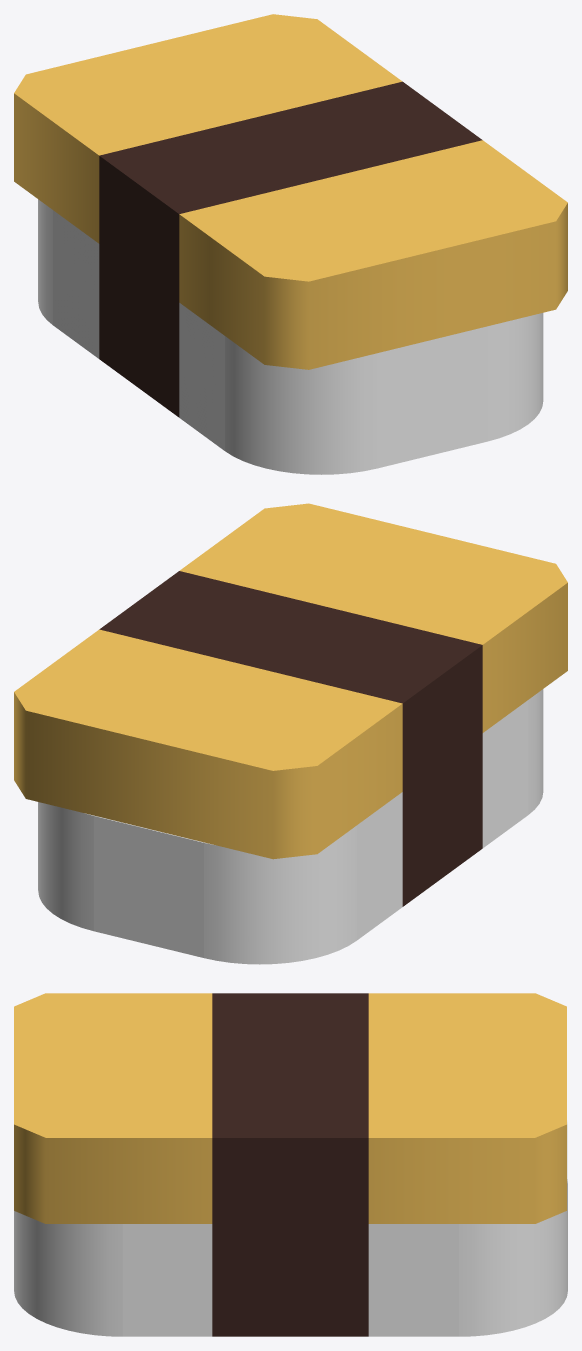
The model's file is sushiEgg.fbx.
The picture shows the model from 3 angles, top to bottom: view 1: azimuth 30°, elevation 25°; view 2: azimuth 150°, elevation 25°; view 3: azimuth 270°, elevation 25°; orthographic projection. The views are drawn at different scales.
Visible parts, largest first — view 1: egg, sushiEgg; view 2: egg, sushiEgg; view 3: egg, sushiEgg.
Part boxes in pixels (box(x1,y1,x2,y2)): egg: box(14, 14, 567, 369); sushiEgg: box(38, 199, 543, 474); egg: box(14, 503, 567, 859); sushiEgg: box(38, 689, 543, 964); egg: box(14, 993, 566, 1223); sushiEgg: box(14, 1120, 567, 1336).
Bounding box in the file's own units: 1.08 × 0.6918 × 1.75.
